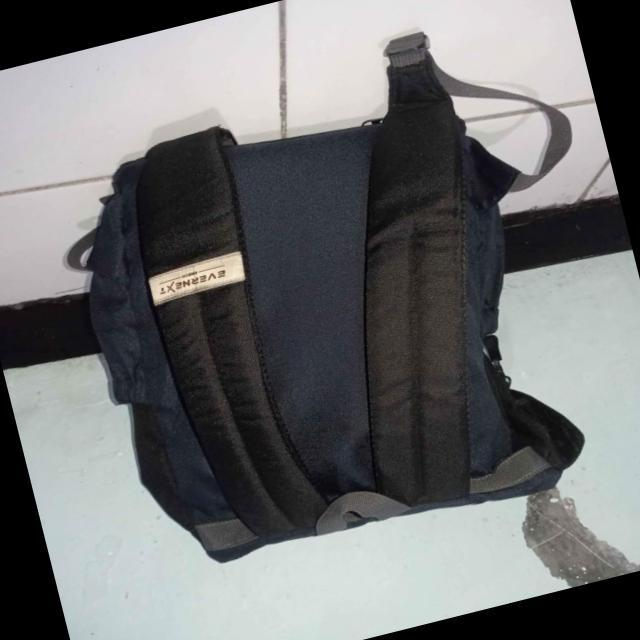bag: (90, 128, 555, 565)
